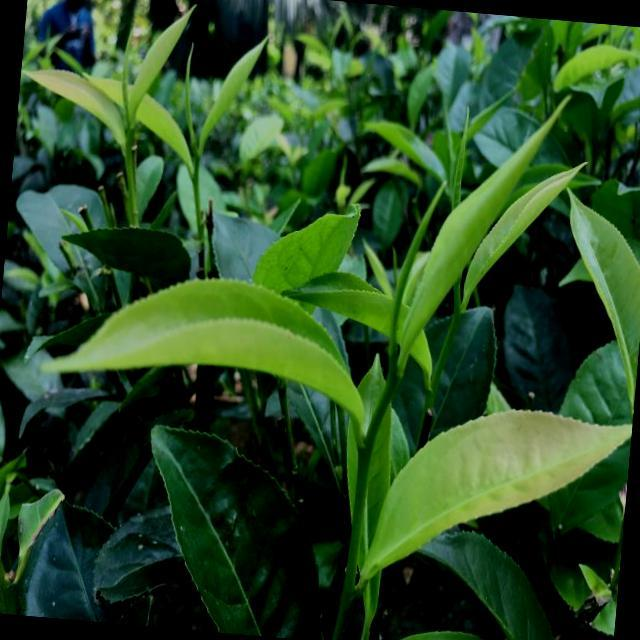Stem: (358, 437, 372, 454), (125, 129, 134, 138), (191, 175, 198, 183)
